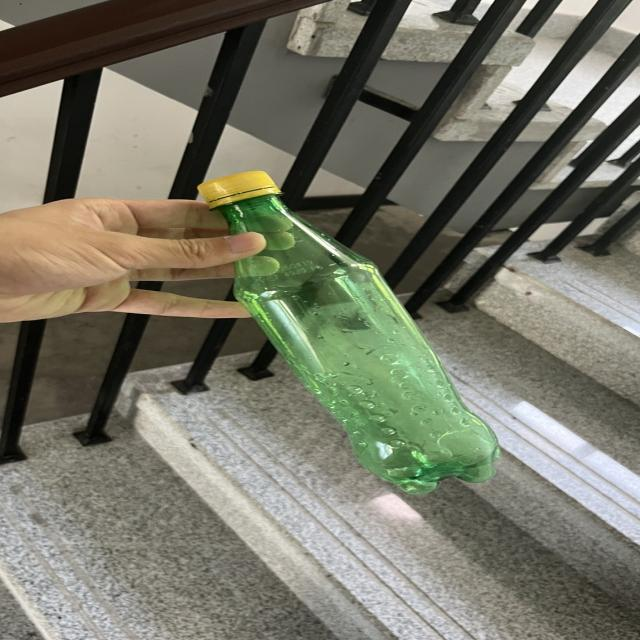empty: (198, 172, 499, 494)
